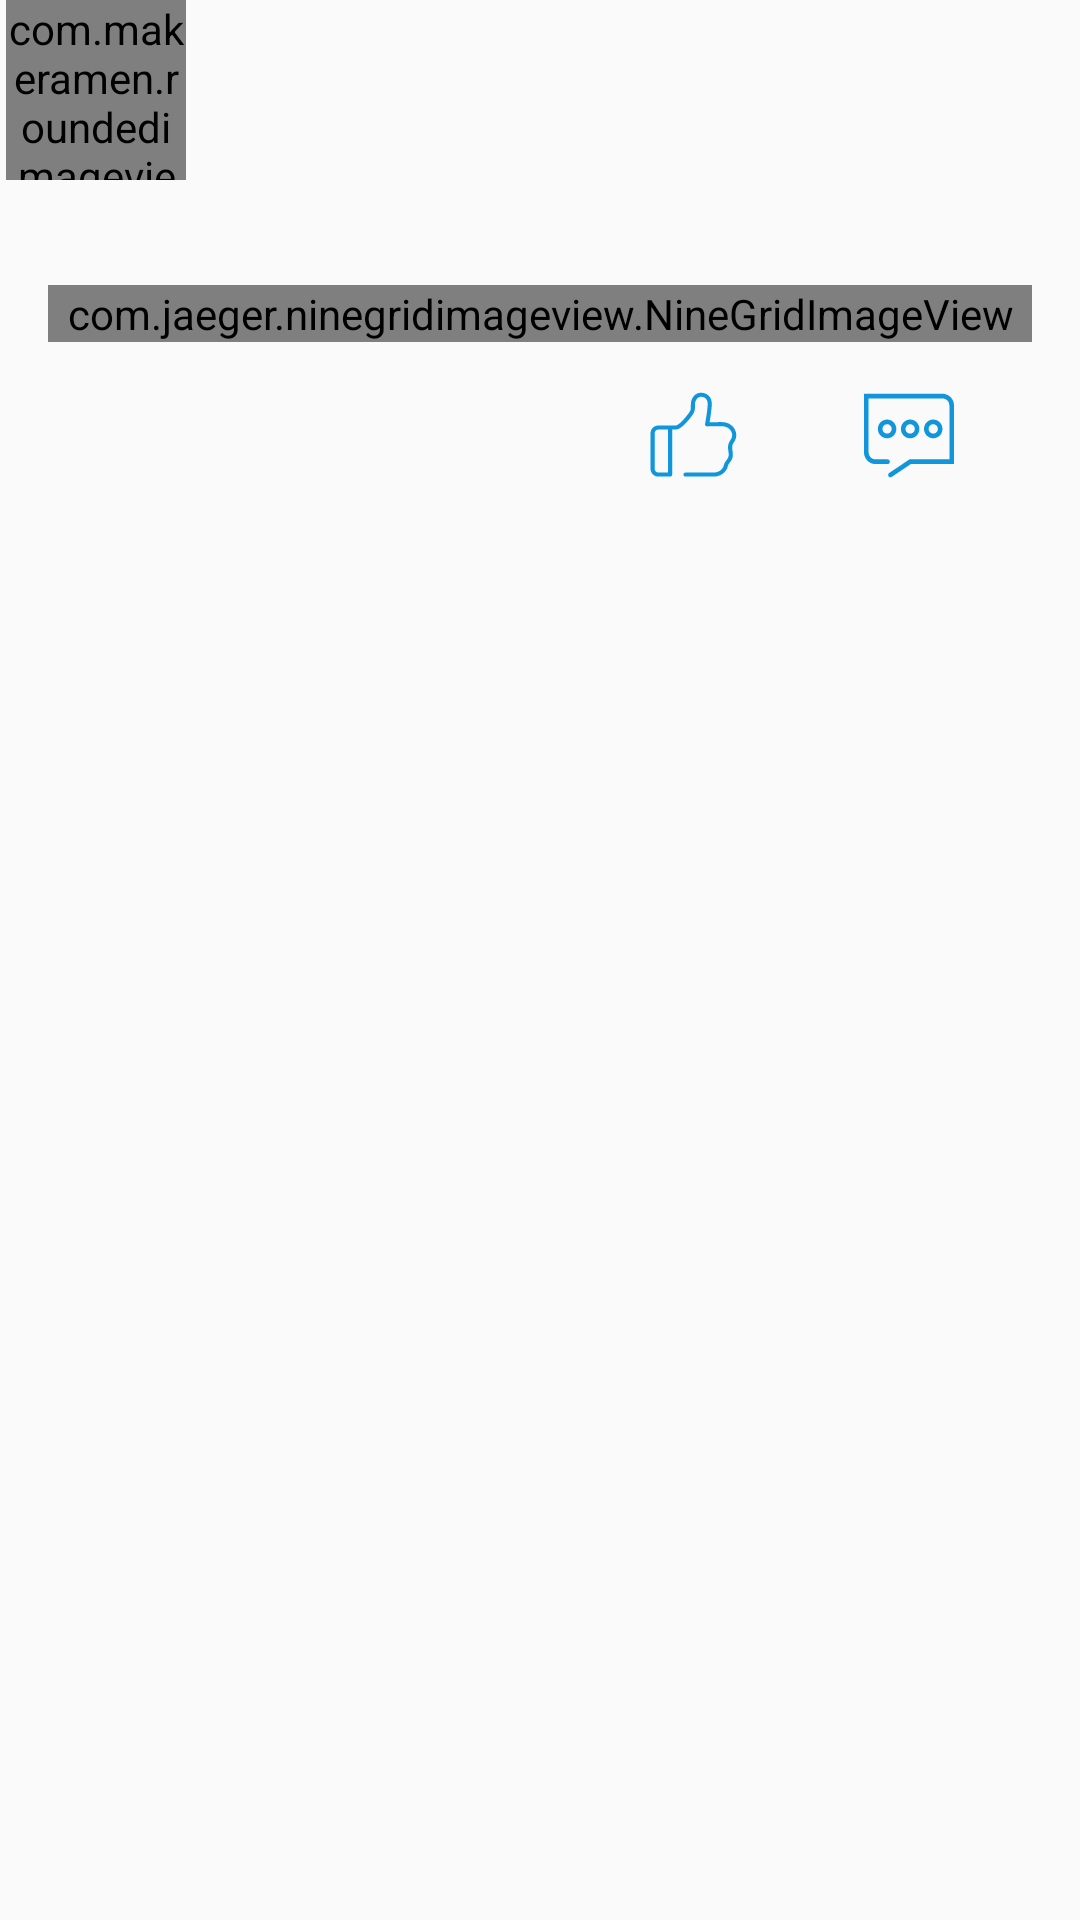

Icons on this 1080px x 1920px Android screen, each with its box as (left=x1, top=y1, right=x2, bottom=y2):
comments: (left=864, top=393, right=954, bottom=478)
good: (left=650, top=392, right=737, bottom=477)
